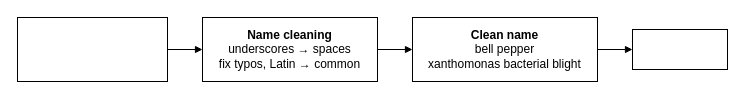
Image size: 745x99. Some labels were removed from this diagram. Each missing label, with the centre of its shape:
Raw label pepper_bell xamthomonas: point (92, 49)
Text encoder: point (680, 49)
